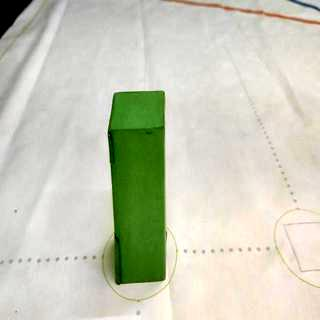greenbox: (106, 88, 172, 284)
